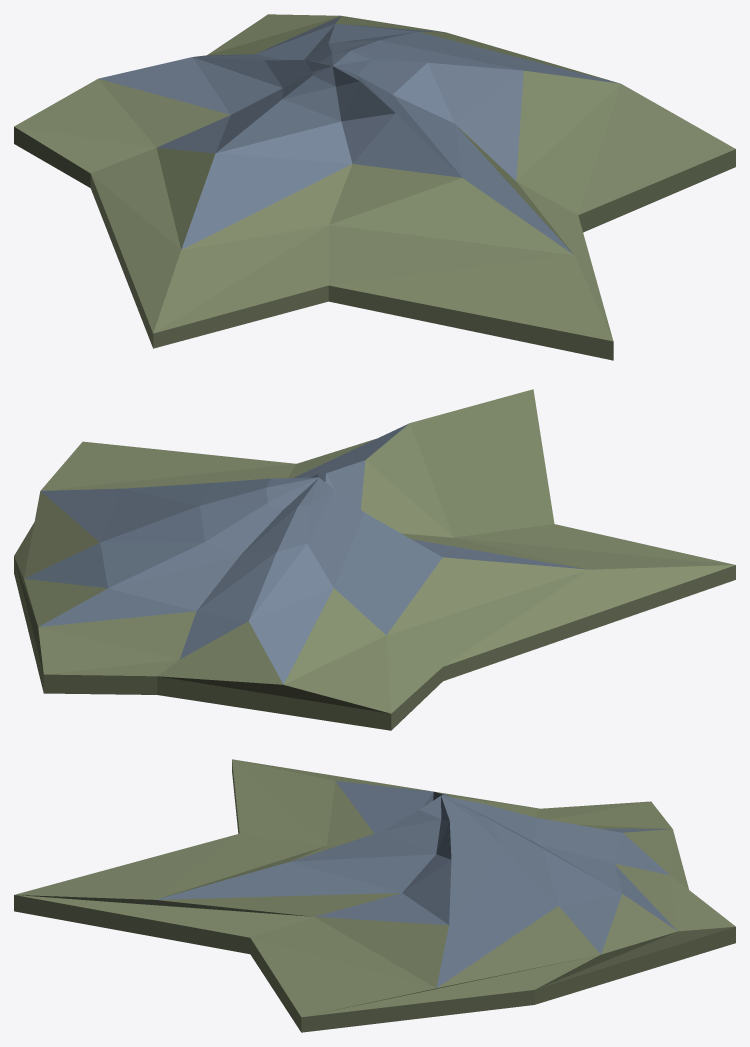
The model's file is massif_valley_guard.glb.
3 views of the same model, one above another, from view 1: azimuth 30°, elevation 25°; view 2: azimuth 150°, elevation 25°; view 3: azimuth 270°, elevation 25° (orthographic). The views are drawn at different scales.
Visible parts, largest first — view 1: massif_valley_guard; view 2: massif_valley_guard; view 3: massif_valley_guard.
Boxes of the visible parts, <box> form: massif_valley_guard: <box>14,14,735,360</box>; massif_valley_guard: <box>14,389,735,730</box>; massif_valley_guard: <box>14,759,735,1032</box>.
Bounding box in the file's own units: 527 × 96.8 × 617.
